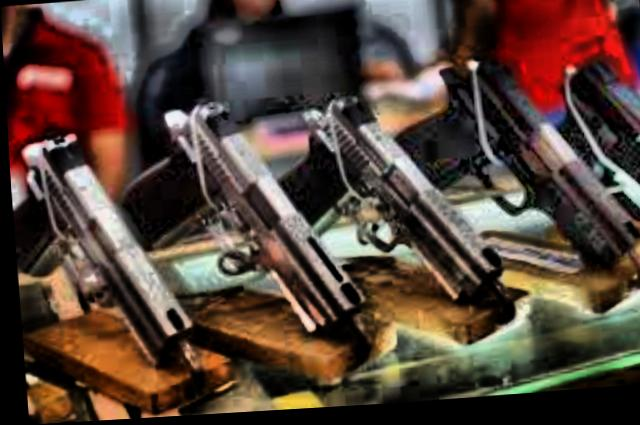pistol: (99, 91, 366, 356), (393, 53, 640, 308), (273, 79, 511, 325), (6, 122, 195, 375)
